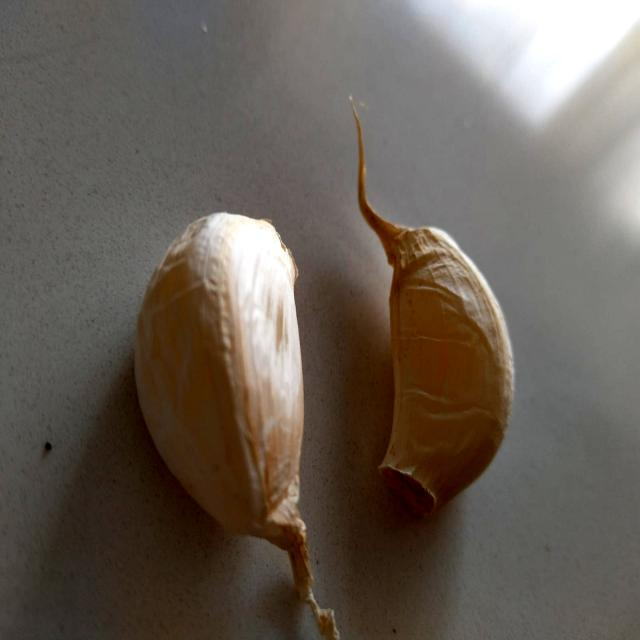garlic: (107, 176, 350, 573), (345, 158, 547, 539)
